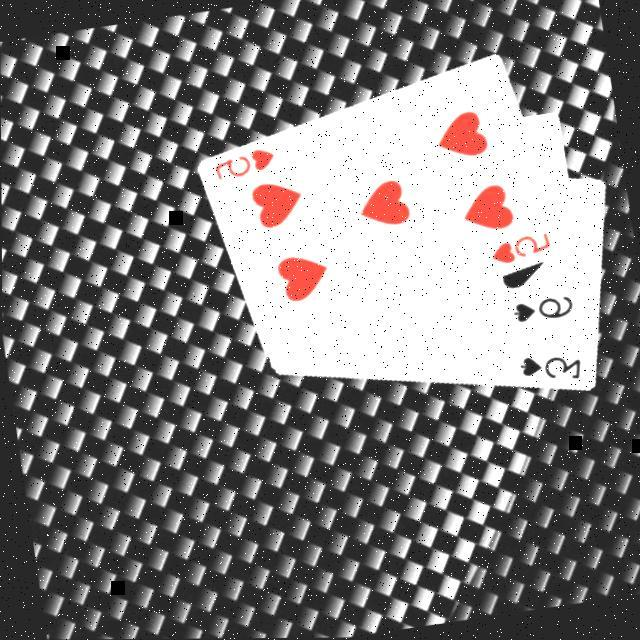3S: (516, 349, 588, 394)
5H: (210, 146, 282, 187), (487, 231, 557, 272)
6S: (509, 294, 578, 330)
